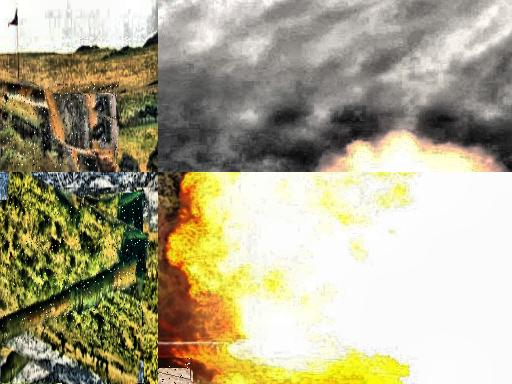tanks: (1, 189, 150, 343), (3, 84, 120, 170), (159, 344, 214, 359), (159, 374, 193, 384)
